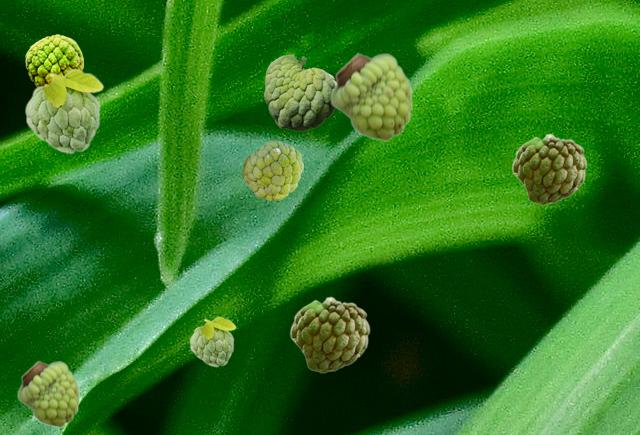atis: (330, 52, 412, 141), (24, 68, 103, 153), (289, 296, 369, 372), (264, 54, 335, 130), (511, 133, 586, 204), (17, 360, 79, 427), (242, 141, 302, 199), (25, 34, 82, 86), (189, 316, 235, 366)
